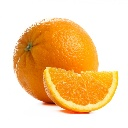orange: (41, 66, 123, 115)
